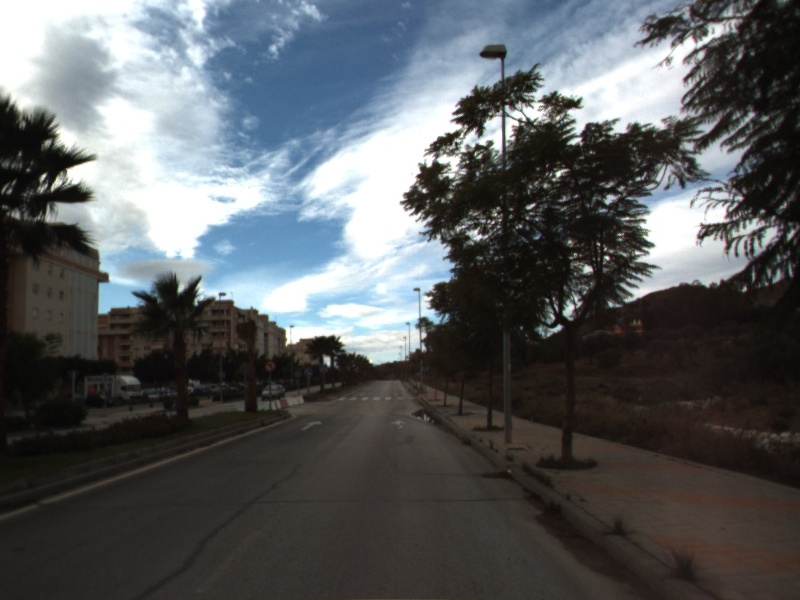STRAIGHT: (299, 418, 324, 432), (389, 418, 408, 431)
